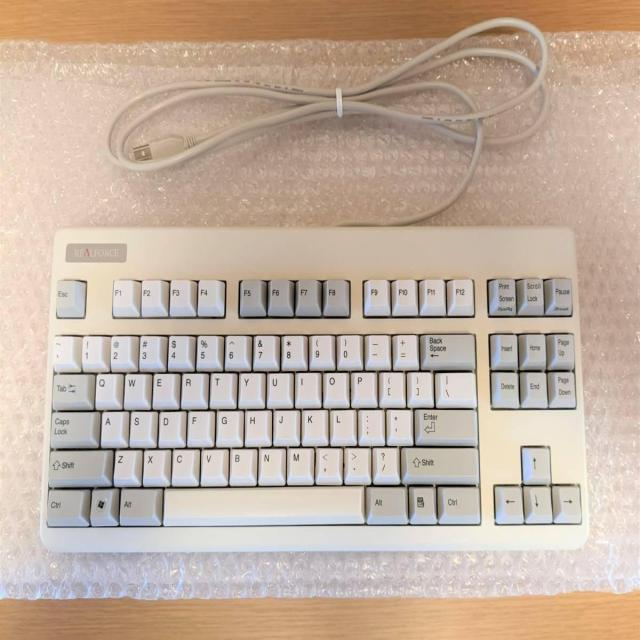keyboard: (39, 224, 592, 558)
